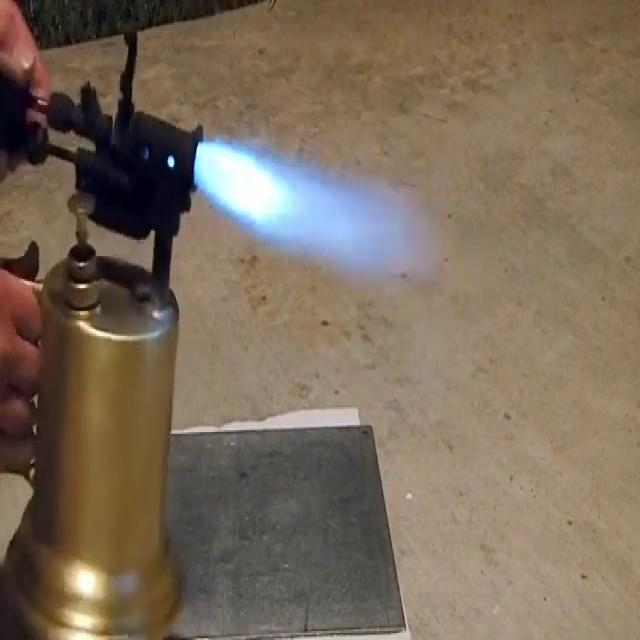fire: (192, 104, 442, 312)
